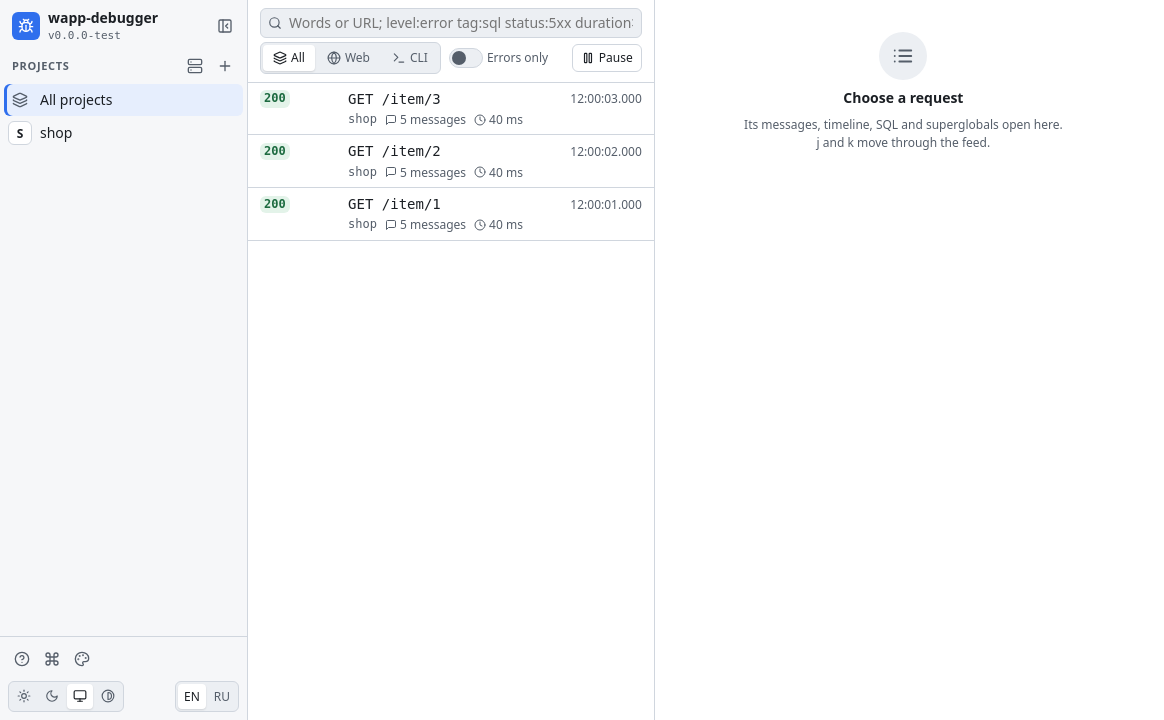
Scenario: App keyboard › compares two open requests and steps back from the comparison
Press j
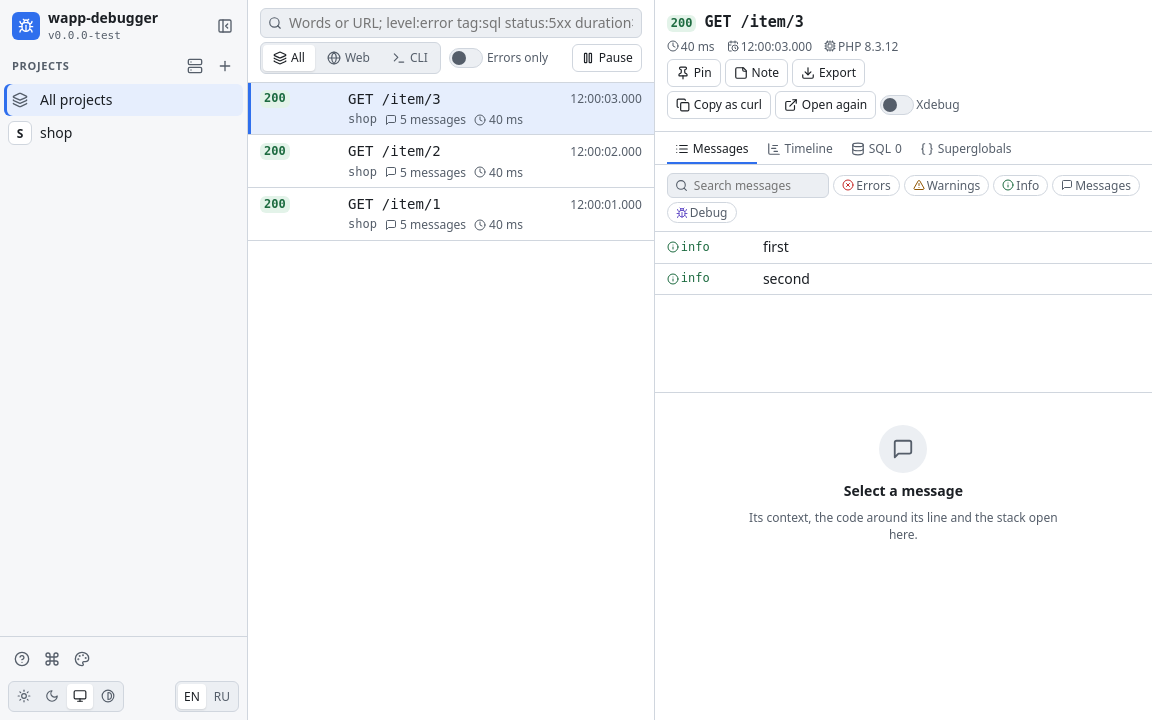
Press j
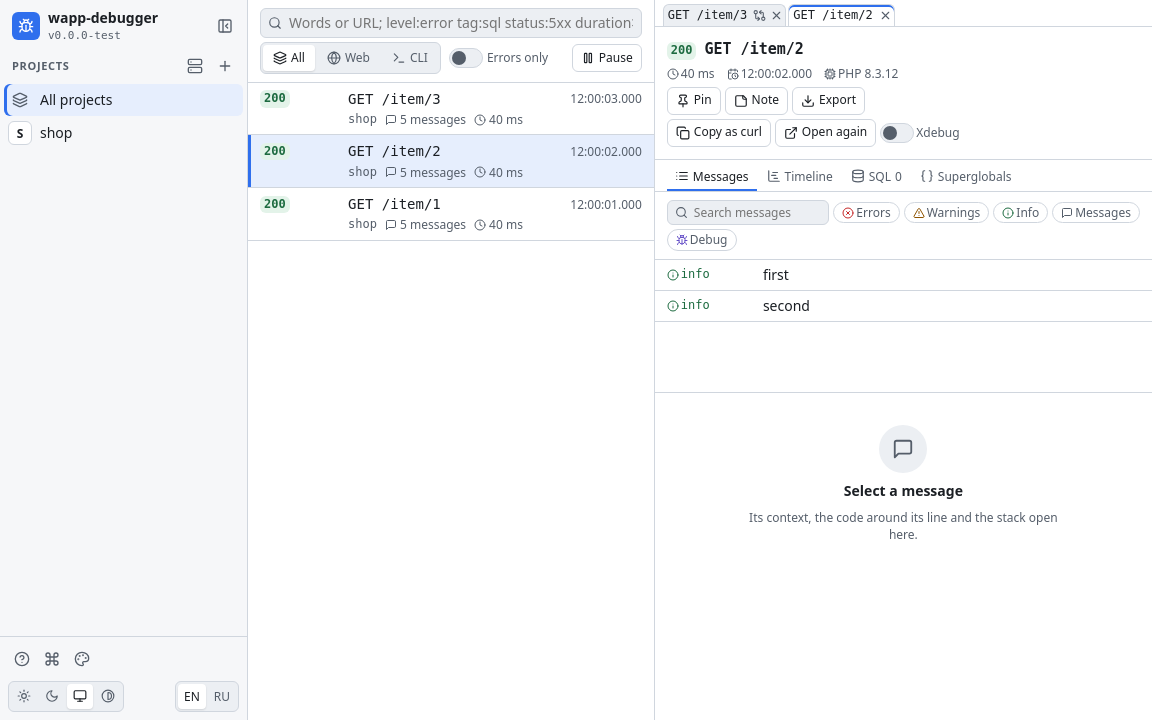
Click the button named "Compare with GET /item/3" at [760, 16], box 751,9 -> 768,22
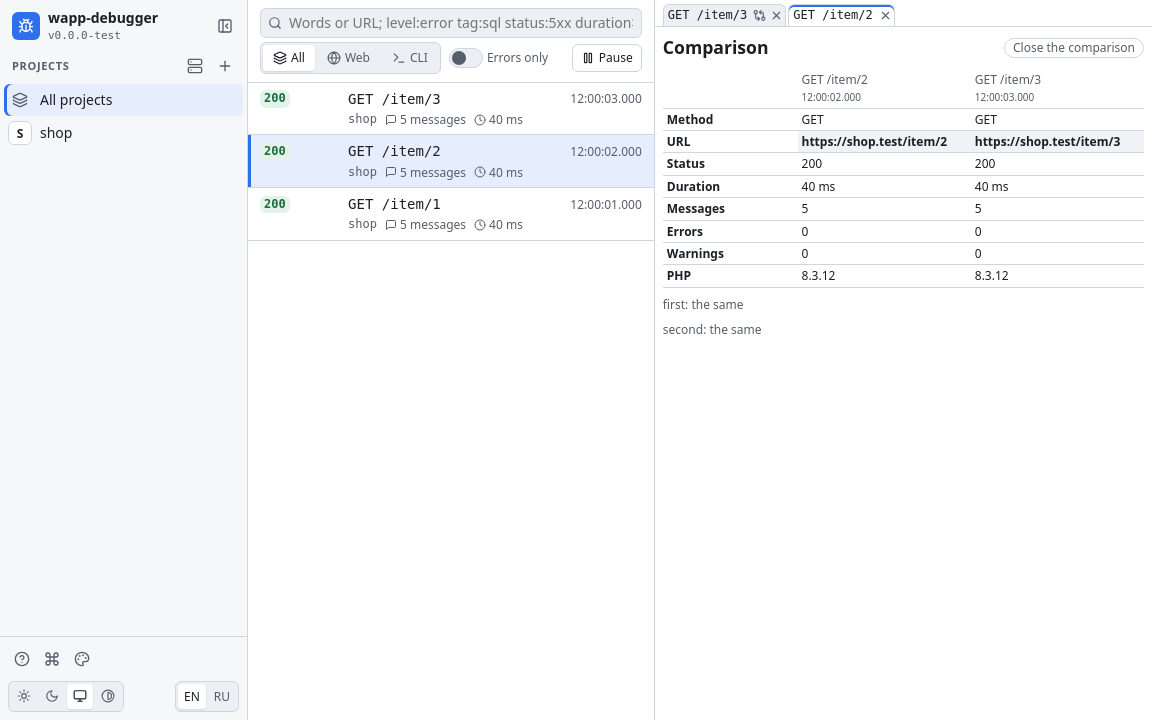
Check: the element "Comparison" is shown, box 655,27 -> 1152,347
Press Escape
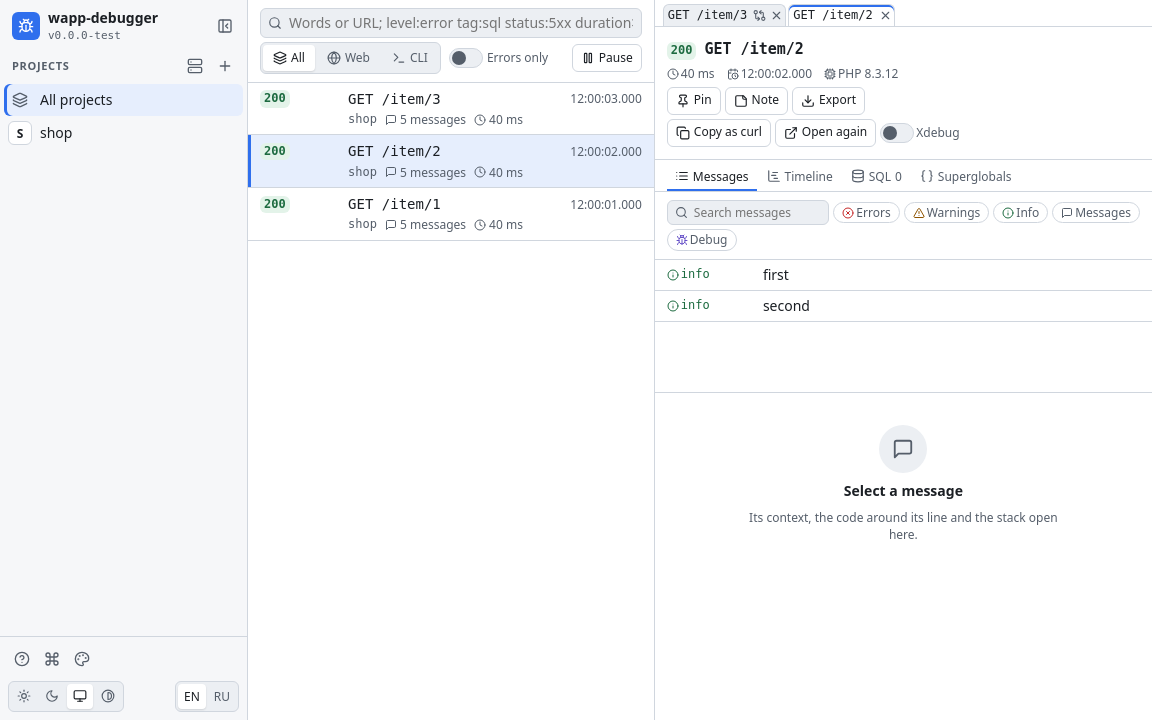
Check: the heading "Comparison" is gone
